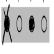correct: (28, 13, 35, 35)
no answer: (16, 13, 23, 35)
not correct: (2, 3, 13, 46)
